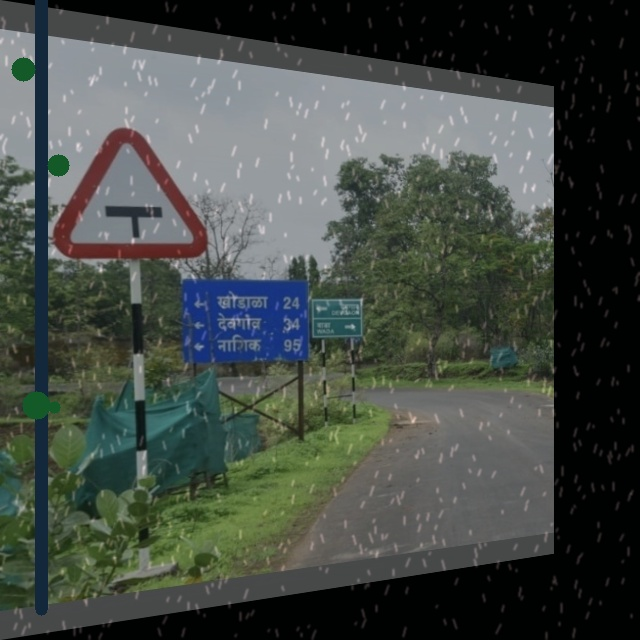T_Intersection: (55, 112, 215, 268)
